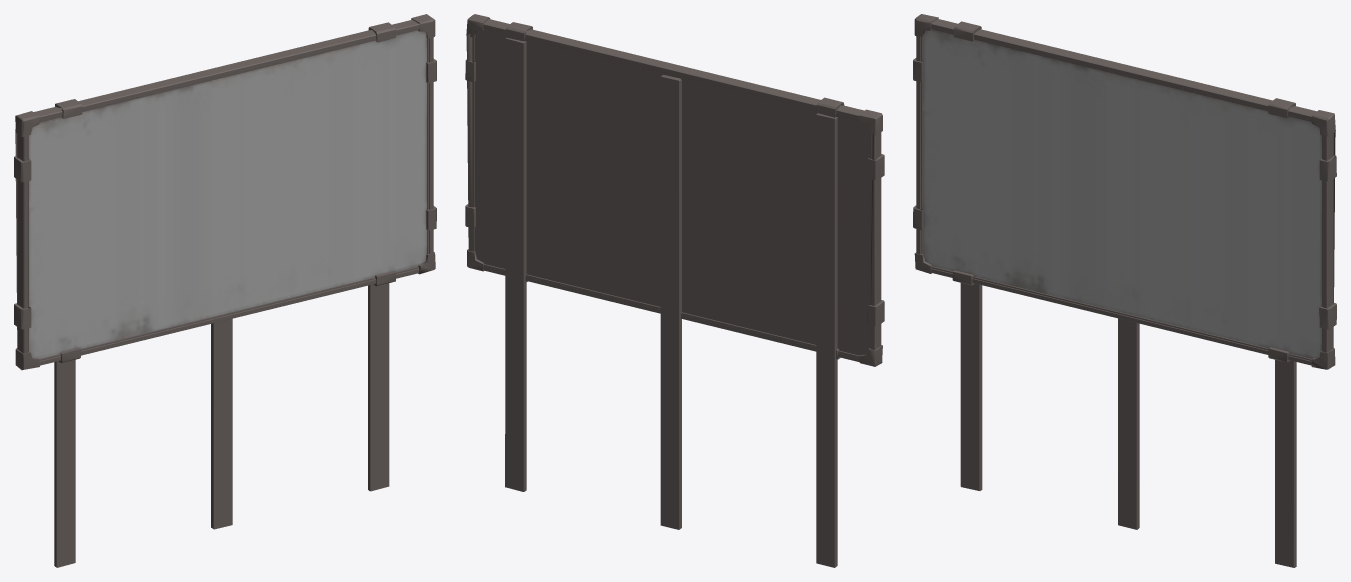
File: Metal Billboard.glb
3 renders of one model, left to right at view 1: azimuth 30°, elevation 25°; view 2: azimuth 150°, elevation 25°; view 3: azimuth 330°, elevation 25°, orthographic.
Visible parts, largest first — view 1: SM_MetalSign_Large; view 2: SM_MetalSign_Large; view 3: SM_MetalSign_Large.
Part boxes in pixels (x1,y1,x2,y2): SM_MetalSign_Large: [14, 14, 436, 567]; SM_MetalSign_Large: [465, 14, 884, 567]; SM_MetalSign_Large: [913, 14, 1336, 567].
Size of the model in its own units: 5.01 by 5.34 by 0.2005.
Materials: 1 (1 with a texture image).
